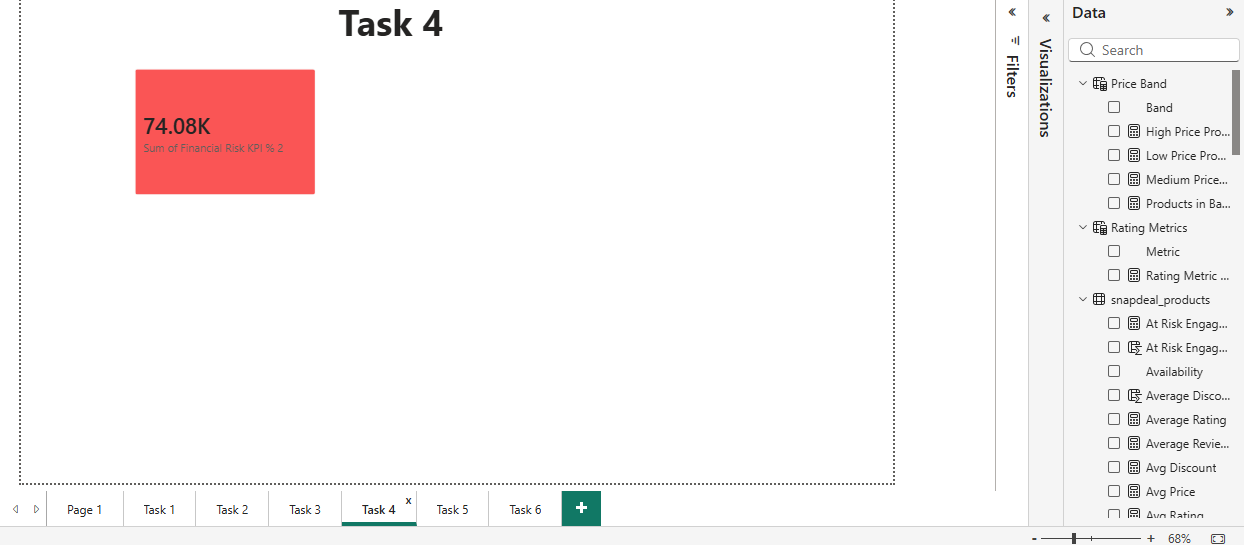

Layout of this report page (visuals, bound fields, positions):
{"tool":"powerbi","page":{"name":"Task 4","canvas":[1280,720],"ordinal":4},"visuals":[{"type":"cardVisual","fields":{"Data":["Sum(snapdeal_products.Financial Risk KPI % 2)"]},"box":[150,94,300,220],"z":3},{"type":"textbox","box":[132.2,0,822.9,94],"z":4}]}

Visuals, with their boxes on the page's 1280x720 design canvas (x1, y1, x2, y2). These are canvas units, not pixel positions in the 1244x545 screenshot, which may show the page scaled, cropped or inside an application window:
cardVisual - Sum(snapdeal_products.Financial Risk KPI % 2): BBox(150, 94, 450, 314)
textbox: BBox(132, 0, 955, 94)
